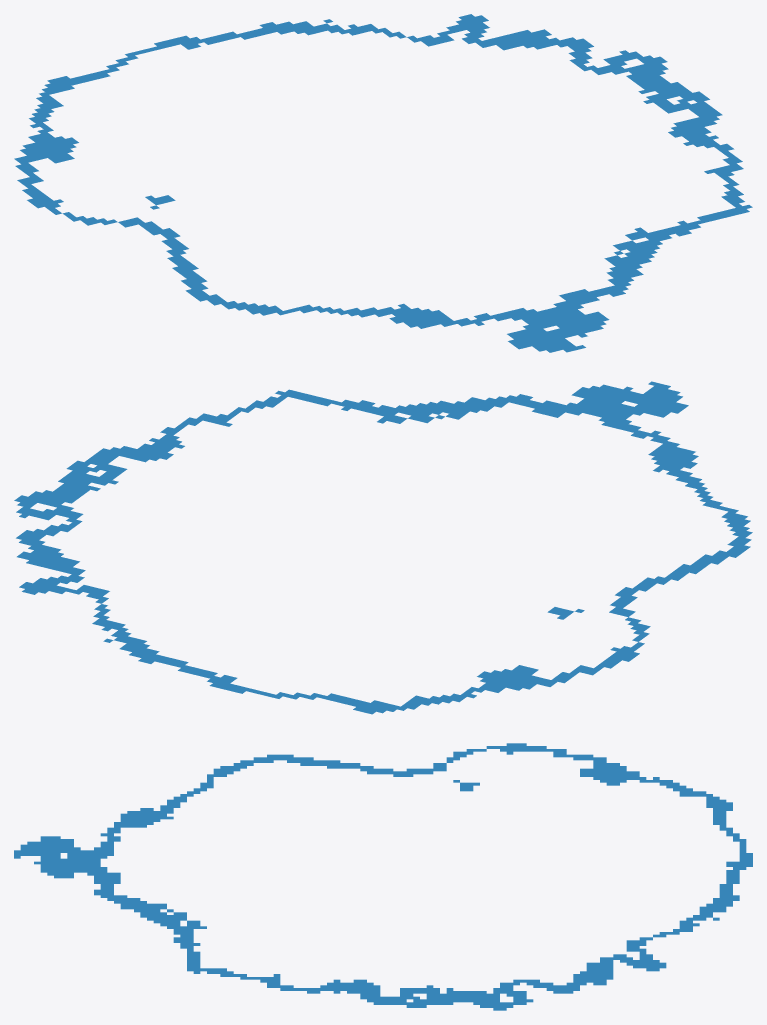
Rendered from Isl-hilly6-PlaceForWaterObjects.fbx.
3 views of the same model, one above another, from view 1: azimuth 30°, elevation 25°; view 2: azimuth 150°, elevation 25°; view 3: azimuth 270°, elevation 25° (orthographic). The views are drawn at different scales.
Parts seen in each view (by area): view 1: Isl-hilly6-PlaceForWaterObjects; view 2: Isl-hilly6-PlaceForWaterObjects; view 3: Isl-hilly6-PlaceForWaterObjects.
Part boxes in pixels (x1,y1,x2,y2): Isl-hilly6-PlaceForWaterObjects: [14, 14, 752, 352]; Isl-hilly6-PlaceForWaterObjects: [14, 381, 752, 714]; Isl-hilly6-PlaceForWaterObjects: [14, 743, 752, 1010].
Size of the model in its own units: 95 by 0 by 111.
